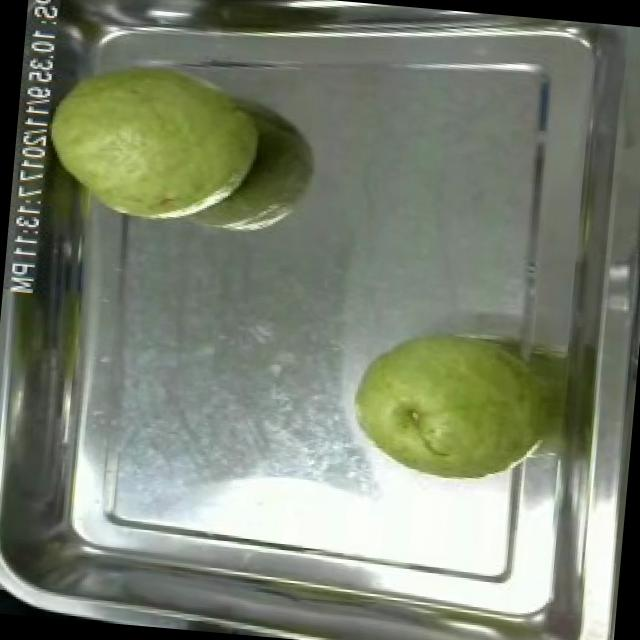Fruit: (28, 42, 276, 240), (336, 313, 556, 498)
